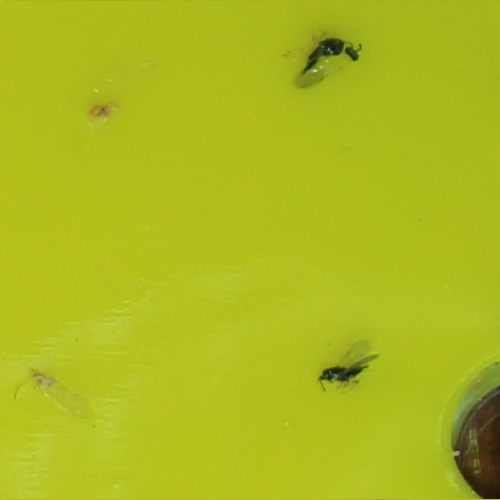Glycaspis: (31, 372, 57, 393)
Psyllaephagus: (301, 36, 345, 74), (320, 363, 368, 382)
